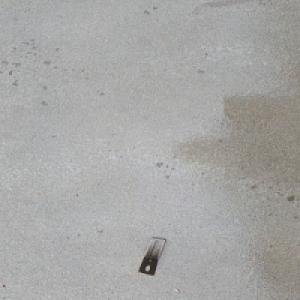MetalPart: (136, 236, 167, 276)
